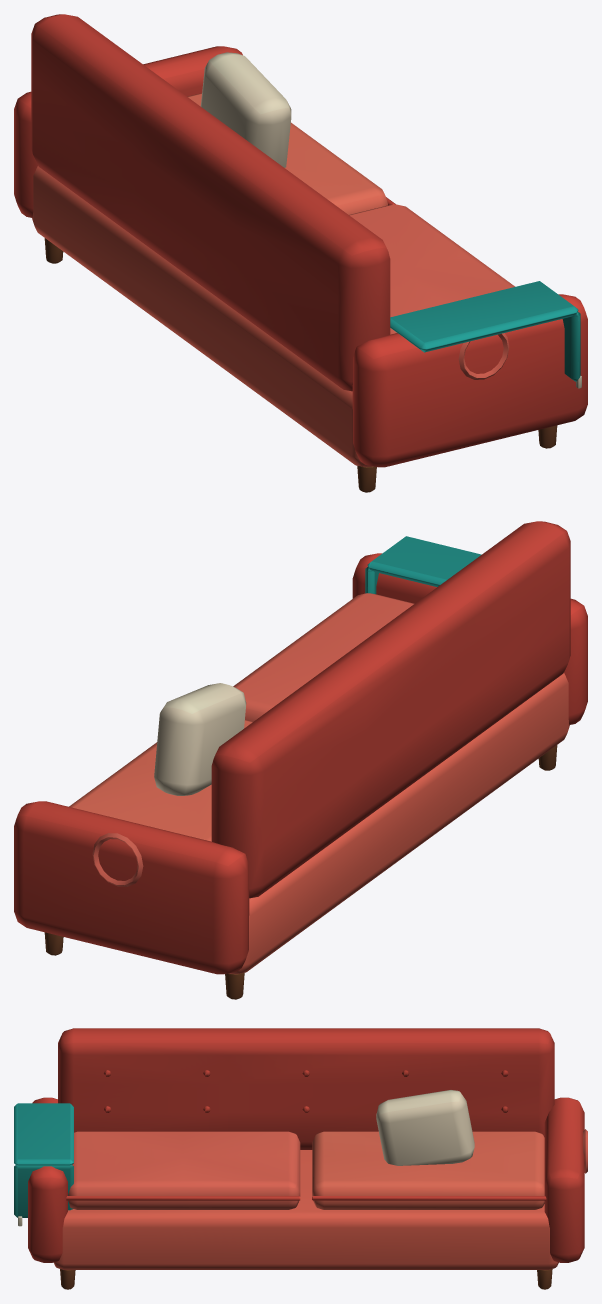
The model's file is SM_Office_Sofa.fbx.
3 views of the same model, one above another, from view 1: azimuth 30°, elevation 25°; view 2: azimuth 150°, elevation 25°; view 3: azimuth 270°, elevation 25° (orthographic). The views are drawn at different scales.
Visible parts, largest first — view 1: SM_Office_Sofa; view 2: SM_Office_Sofa; view 3: SM_Office_Sofa.
Part boxes in pixels (bbox=[...]): SM_Office_Sofa: bbox=[14, 14, 587, 492]; SM_Office_Sofa: bbox=[14, 521, 587, 999]; SM_Office_Sofa: bbox=[14, 1028, 587, 1289].
Bounding box in the file's own units: 101 × 105 × 289.
